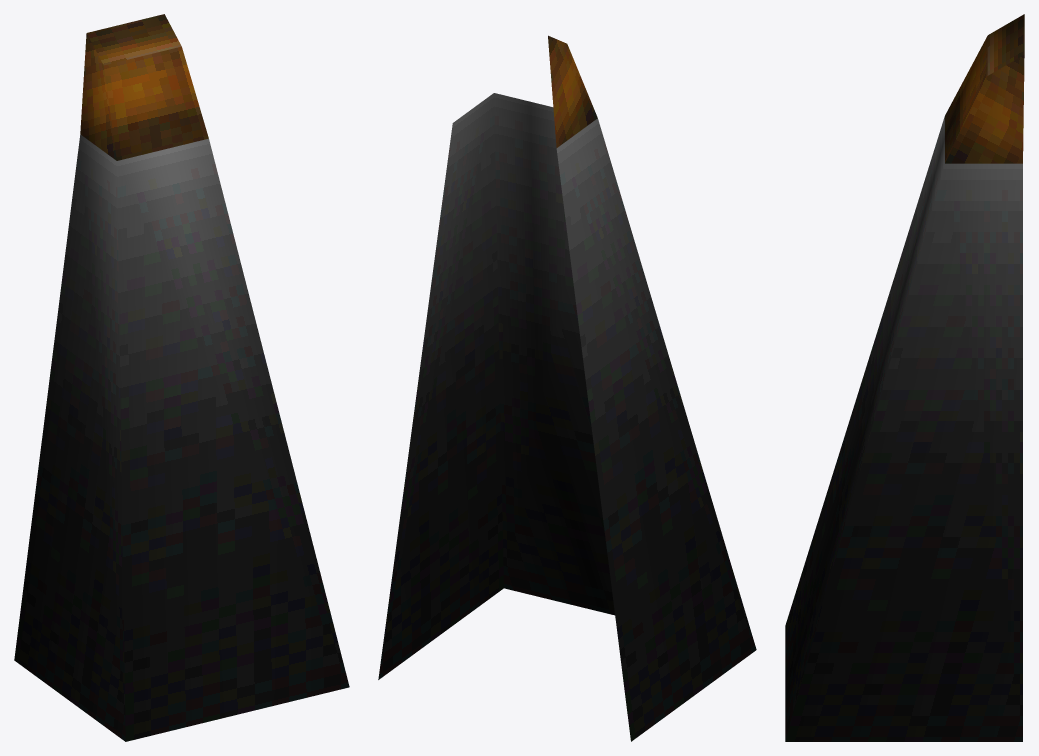
3 renders of one model, left to right at view 1: azimuth 30°, elevation 25°; view 2: azimuth 150°, elevation 25°; view 3: azimuth 270°, elevation 25°, orthographic. The views are drawn at different scales.
Parts seen in each view (by area): view 1: Hk_obj_067; view 2: Hk_obj_067; view 3: Hk_obj_067.
Part boxes in pixels (x1,y1,x2,y2): Hk_obj_067: [14, 14, 349, 741]; Hk_obj_067: [378, 35, 756, 741]; Hk_obj_067: [785, 14, 1024, 741].
Size of the model in its own units: 0.6895 by 1.79 by 0.5977.
Materials: 2 (2 with a texture image).
